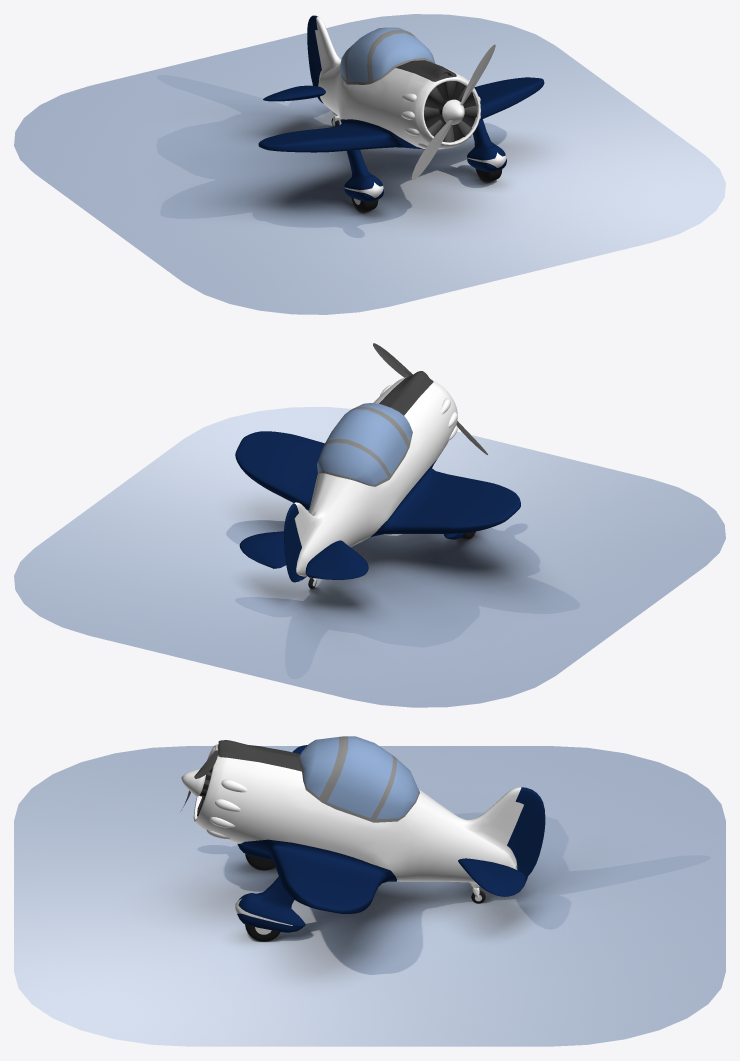
Rendered from plane-optim.glb.
The picture shows the model from 3 angles, top to bottom: view 1: azimuth 30°, elevation 25°; view 2: azimuth 150°, elevation 25°; view 3: azimuth 270°, elevation 25°; orthographic projection. The views are drawn at different scales.
Parts seen in each view (by area): view 1: ground, Cylinder, Cube; view 2: ground, Cylinder, Cube; view 3: ground, Cylinder.
Boxes of the visible parts, <box> form: ground: <box>14,14,725,314</box>; Cylinder: <box>258,15,544,211</box>; Cube: <box>411,44,495,180</box>; ground: <box>14,406,725,707</box>; Cylinder: <box>235,371,520,588</box>; Cube: <box>373,343,487,454</box>; ground: <box>14,746,725,1046</box>; Cylinder: <box>181,736,545,941</box>.
Size of the model in its own units: 4 by 1.12 by 4.
2 materials, 2 textured.
